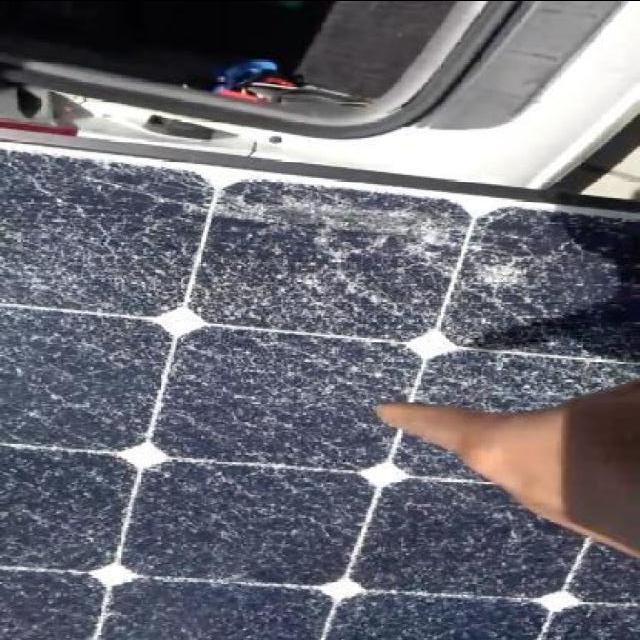cracked: (6, 141, 637, 640)
